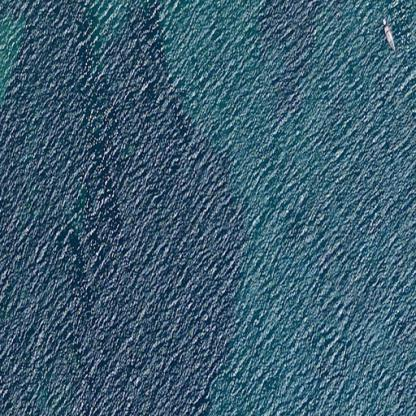ship: (381, 18, 397, 50)
